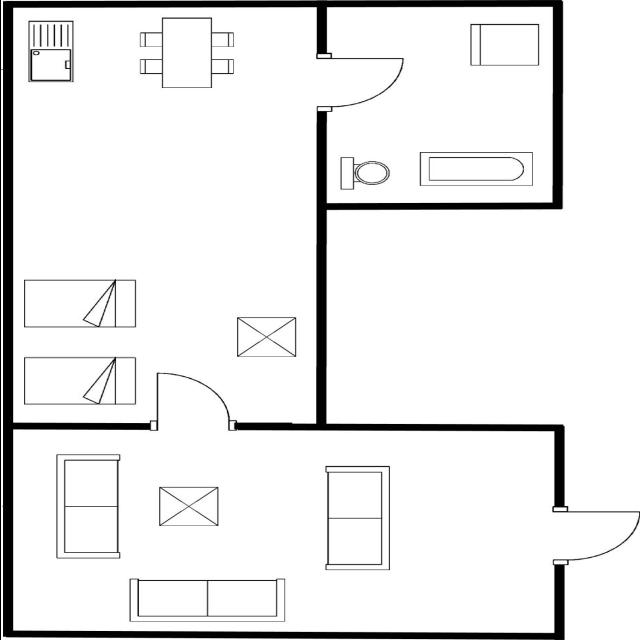bed: (20, 276, 140, 329), (19, 354, 140, 406)
coffee_table: (155, 482, 222, 528), (230, 314, 300, 358)
dining_table: (138, 14, 238, 94)
large_sink: (337, 153, 393, 191)
large_sofa: (52, 451, 126, 562), (323, 462, 395, 574), (124, 576, 288, 624)
sink: (24, 16, 77, 84)
small_sofa: (464, 21, 542, 67)
tub: (416, 148, 536, 187)
